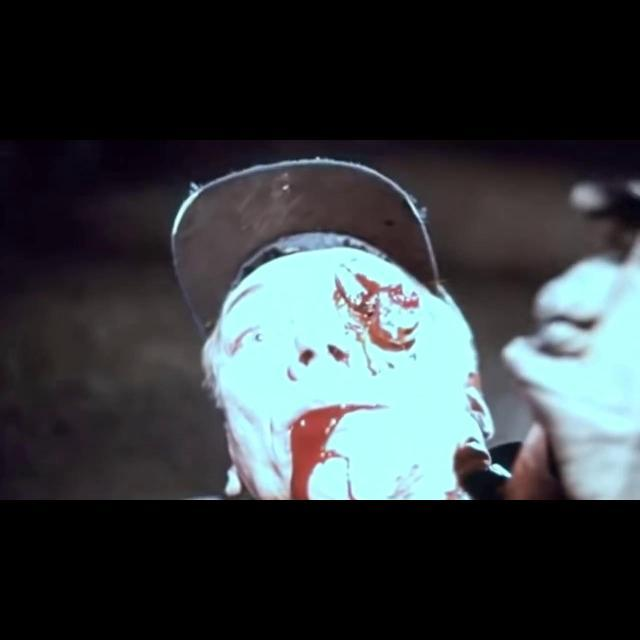blood: (290, 404, 387, 500), (334, 273, 419, 351), (328, 345, 350, 363)
